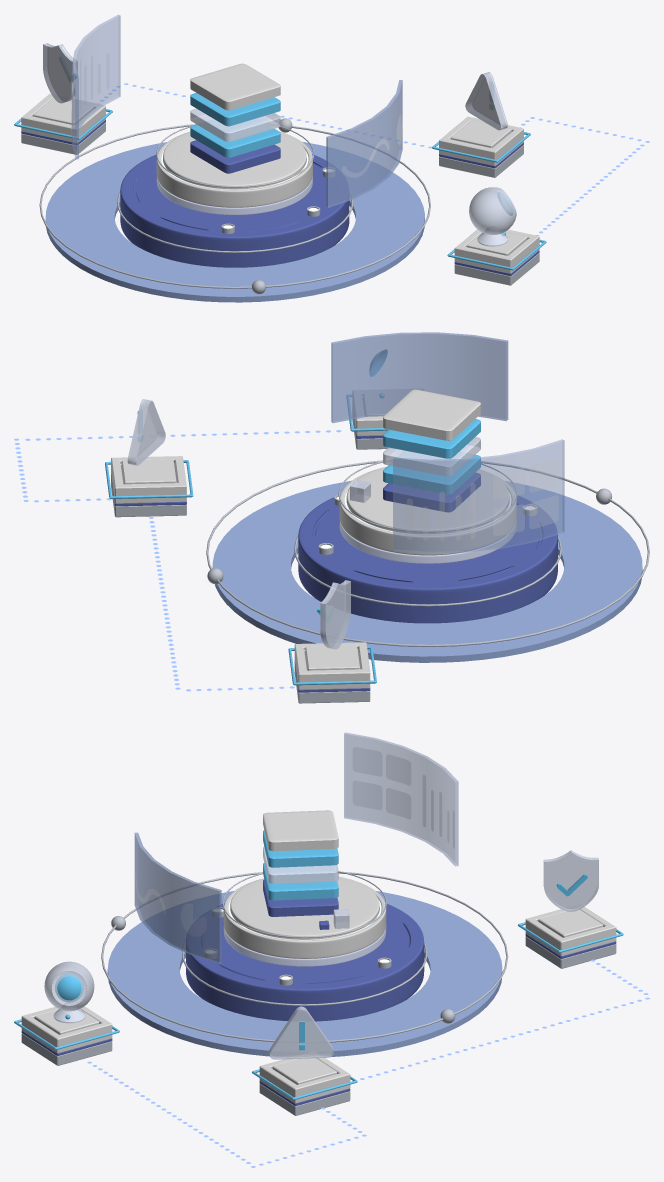
File: login_background.glb
3 renders of one model, top to bottom at view 1: azimuth 30°, elevation 25°; view 2: azimuth 150°, elevation 25°; view 3: azimuth 270°, elevation 25°, orthographic. The views are drawn at different scales.
Visible parts, largest first — view 1: bottom-round, 柱体, screen, main-cube, 柱体.001, cube-base3, cube-base2, cube-base1, item-camera, big-circle, item-dunpai, item -triangle (+4 smaller); view 2: screen, bottom-round, 柱体, main-cube, 柱体.001, cube-base3, cube-base2, big-circle, cube-base1, item-dunpai, 柱体.005, item -triangle (+3 smaller); view 3: bottom-round, screen, 柱体, 柱体.001, main-cube, cube-base3, cube-base2, cube-base1, item-dunpai, item-camera, item -triangle, big-circle (+3 smaller).
Part boxes in pixels (x1,y1,x2,y2): bottom-round: (45, 141, 424, 302); 柱体: (120, 154, 349, 267); screen: (71, 15, 402, 207); main-cube: (190, 63, 280, 173); 柱体.001: (156, 131, 312, 207); cube-base3: (14, 93, 112, 154); cube-base2: (432, 116, 530, 177); cube-base1: (447, 229, 546, 285); item-camera: (469, 187, 516, 246); big-circle: (39, 124, 430, 288); item-dunpai: (43, 43, 77, 103); item -triangle: (465, 72, 507, 130); screen: (331, 332, 564, 553); bottom-round: (212, 480, 642, 662); 柱体: (298, 495, 557, 623); main-cube: (383, 389, 480, 512); 柱体.001: (339, 466, 516, 555); cube-base3: (288, 642, 376, 703); cube-base2: (105, 456, 193, 517); big-circle: (206, 460, 649, 646); cube-base1: (346, 389, 423, 449); item-dunpai: (317, 580, 350, 649); 柱体.005: (339, 520, 516, 563); item -triangle: (127, 399, 165, 465); bottom-round: (107, 891, 502, 1056); screen: (134, 732, 458, 963); 柱体: (186, 903, 424, 1021); 柱体.001: (223, 876, 386, 958); main-cube: (263, 810, 338, 916); cube-base3: (518, 907, 623, 968); cube-base2: (252, 1058, 357, 1115); cube-base1: (14, 1006, 119, 1065); item-dunpai: (543, 850, 598, 911); item-camera: (44, 961, 94, 1023); item -triangle: (269, 1006, 333, 1059); big-circle: (101, 871, 508, 1042).
Size of the model in its own units: 7.89 by 2.22 by 7.48.
